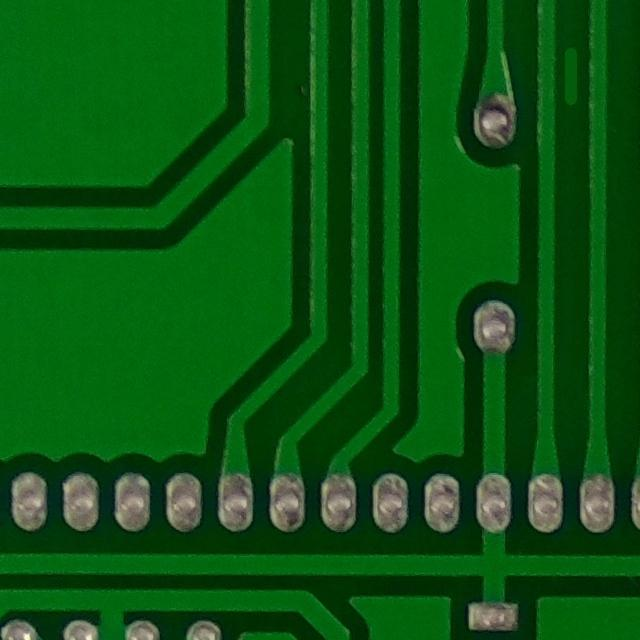spurious_copper: (549, 37, 600, 114)
